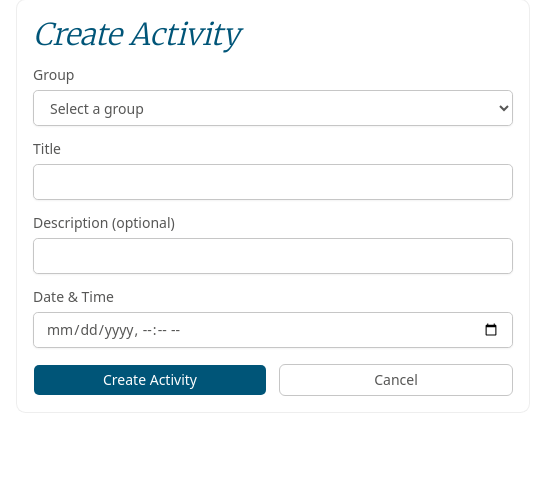
CreateActivityPage › shows a submission error when activity creation fails
The width and height of the screenshot is (547, 484).
Select "Choir" in the dropdown labelled "Group": x=273, y=108 [33,90,513,126]
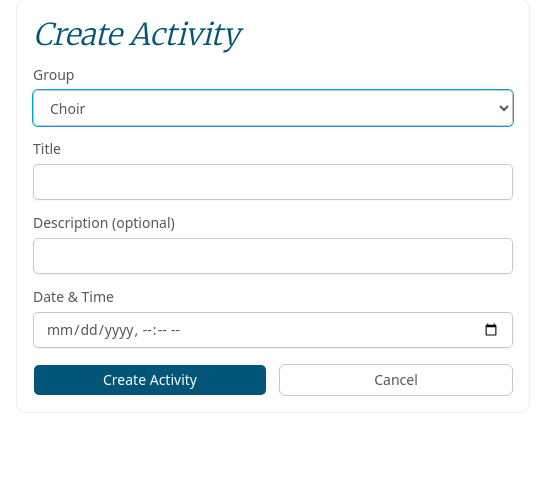
In the field labelled "Title": x=273, y=182 [33,164,513,200], type "Rehearsal"
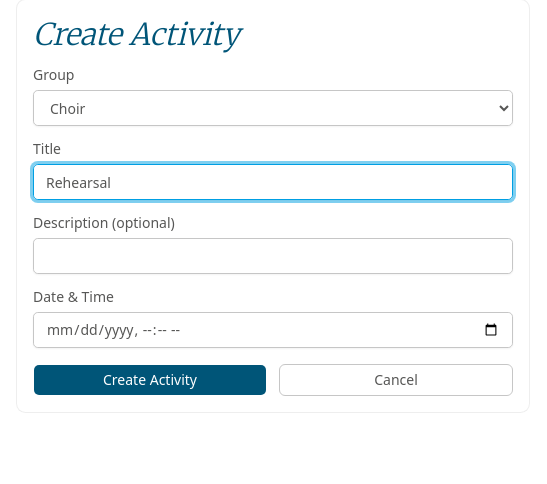
In the field labelled "Date & Time": x=273, y=330 [33,312,513,348], type "2026-04-05T18:30"
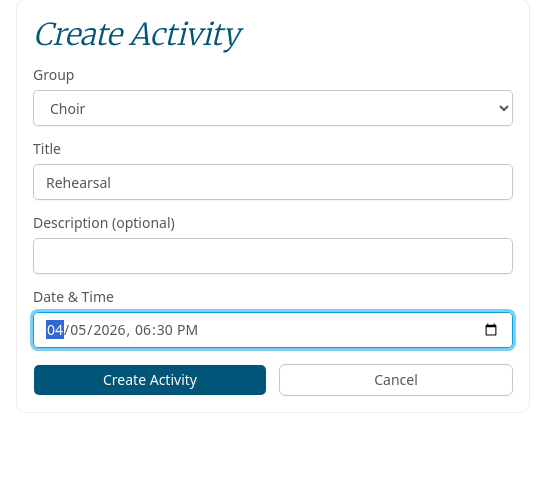
Click the button "Create Activity": x=150, y=380 [33,364,267,396]
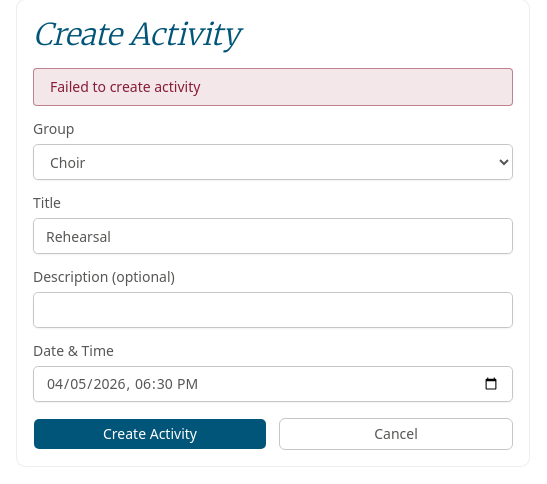
Now the text "Failed to create activity" is shown, box [33,68,513,106]
